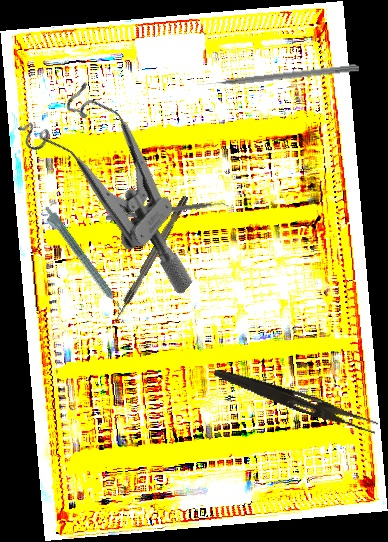Dressing Forceps: (210, 366, 381, 435)
Handpiece: (38, 203, 127, 319)
Hook Surgical: (109, 194, 191, 327)
Pusher: (196, 62, 360, 89)
Spatula Surgical: (105, 198, 230, 227)
Speculum: (3, 68, 247, 296)
